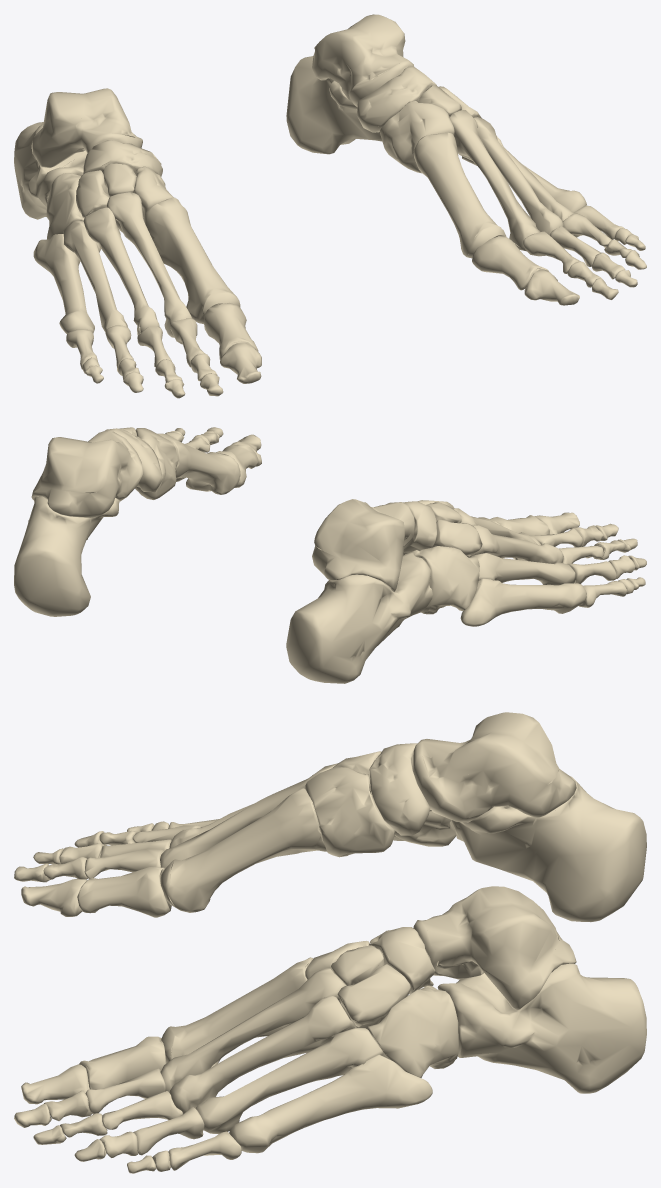
The model's file is ossos-do-pe.glb.
The picture shows the model from 3 angles, top to bottom: view 1: azimuth 30°, elevation 25°; view 2: azimuth 150°, elevation 25°; view 3: azimuth 270°, elevation 25°; orthographic projection. The views are drawn at different scales.
Visible parts, largest first — view 1: Talus.l, Talus.r, Calcaneus.l, First metatarsal bone.r, First metatarsal bone.l, Second metatarsal bone.r, Second metatarsal bone.l, Calcaneus.r, Medial cuneiform bone.l, Fifth metatarsal bone.r, Third metatarsal bone.r, Navicular bone.l (+22 smaller); view 2: Calcaneus.r, Calcaneus.l, Talus.l, Talus.r, Fifth metatarsal bone.r, Cuboid bone.r, First metatarsal bone.l, Fourth metatarsal bone.r, Third metatarsal bone.r, Medial cuneiform bone.l, Lateral cuneiform bone.r, Navicular bone.l (+10 smaller); view 3: Calcaneus.l, Calcaneus.r, Talus.r, Talus.l, First metatarsal bone.r, Fifth metatarsal bone.l, Fourth metatarsal bone.l, Third metatarsal bone.l, Cuboid bone.l, Medial cuneiform bone.r, Second metatarsal bone.l, First metatarsal bone.l (+21 smaller).
Boxes of the visible parts, bbox=[...] form: Talus.l: bbox=[312, 14, 413, 107]; Talus.r: bbox=[31, 88, 142, 167]; Calcaneus.l: bbox=[286, 56, 383, 154]; First metatarsal bone.r: bbox=[144, 197, 240, 323]; First metatarsal bone.l: bbox=[414, 132, 506, 258]; Second metatarsal bone.r: bbox=[107, 192, 192, 337]; Second metatarsal bone.l: bbox=[449, 110, 540, 251]; Calcaneus.r: bbox=[14, 122, 87, 219]; Medial cuneiform bone.l: bbox=[379, 101, 454, 173]; Fifth metatarsal bone.r: bbox=[33, 234, 94, 333]; Third metatarsal bone.r: bbox=[83, 207, 159, 334]; Navicular bone.l: bbox=[356, 66, 436, 132]; Calcaneus.r: bbox=[286, 552, 432, 683]; Calcaneus.l: bbox=[14, 496, 119, 616]; Talus.l: bbox=[31, 431, 142, 517]; Talus.r: bbox=[312, 499, 415, 591]; Fifth metatarsal bone.r: bbox=[460, 578, 586, 626]; Cuboid bone.r: bbox=[411, 546, 479, 614]; First metatarsal bone.l: bbox=[157, 433, 240, 494]; Fourth metatarsal bone.r: bbox=[470, 553, 575, 585]; Third metatarsal bone.r: bbox=[467, 525, 563, 563]; Medial cuneiform bone.l: bbox=[135, 428, 178, 499]; Lateral cuneiform bone.r: bbox=[433, 519, 482, 556]; Navicular bone.l: bbox=[104, 428, 162, 492]; Calcaneus.l: bbox=[437, 963, 646, 1093]; Calcaneus.r: bbox=[451, 776, 646, 922]; Talus.r: bbox=[413, 712, 576, 822]; Talus.l: bbox=[413, 886, 576, 1009]; First metatarsal bone.r: bbox=[160, 788, 326, 912]; Fifth metatarsal bone.l: bbox=[229, 1054, 432, 1153]; Fourth metatarsal bone.l: bbox=[195, 1028, 383, 1134]; Third metatarsal bone.l: bbox=[169, 996, 354, 1114]; Cuboid bone.l: bbox=[367, 985, 458, 1077]; Medial cuneiform bone.r: bbox=[305, 767, 395, 857]; Second metatarsal bone.l: bbox=[160, 968, 349, 1092]; First metatarsal bone.l: bbox=[161, 957, 313, 1067].
Bounding box in the file's own units: 0.2928 × 0.0763 × 0.2289.
